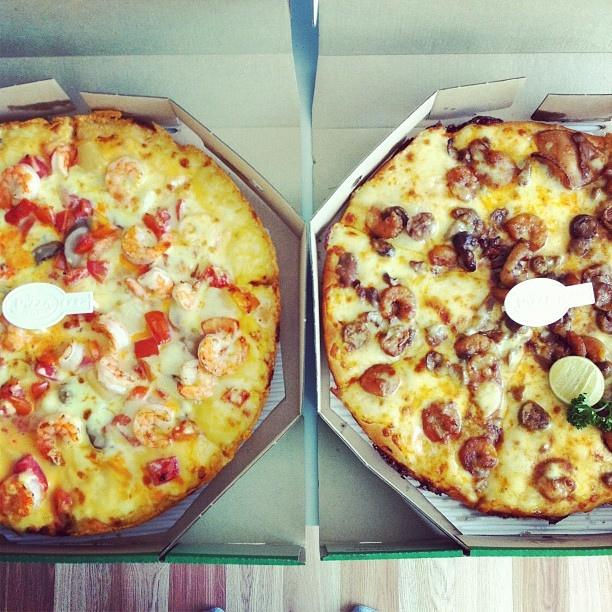lime: (548, 356, 605, 407)
